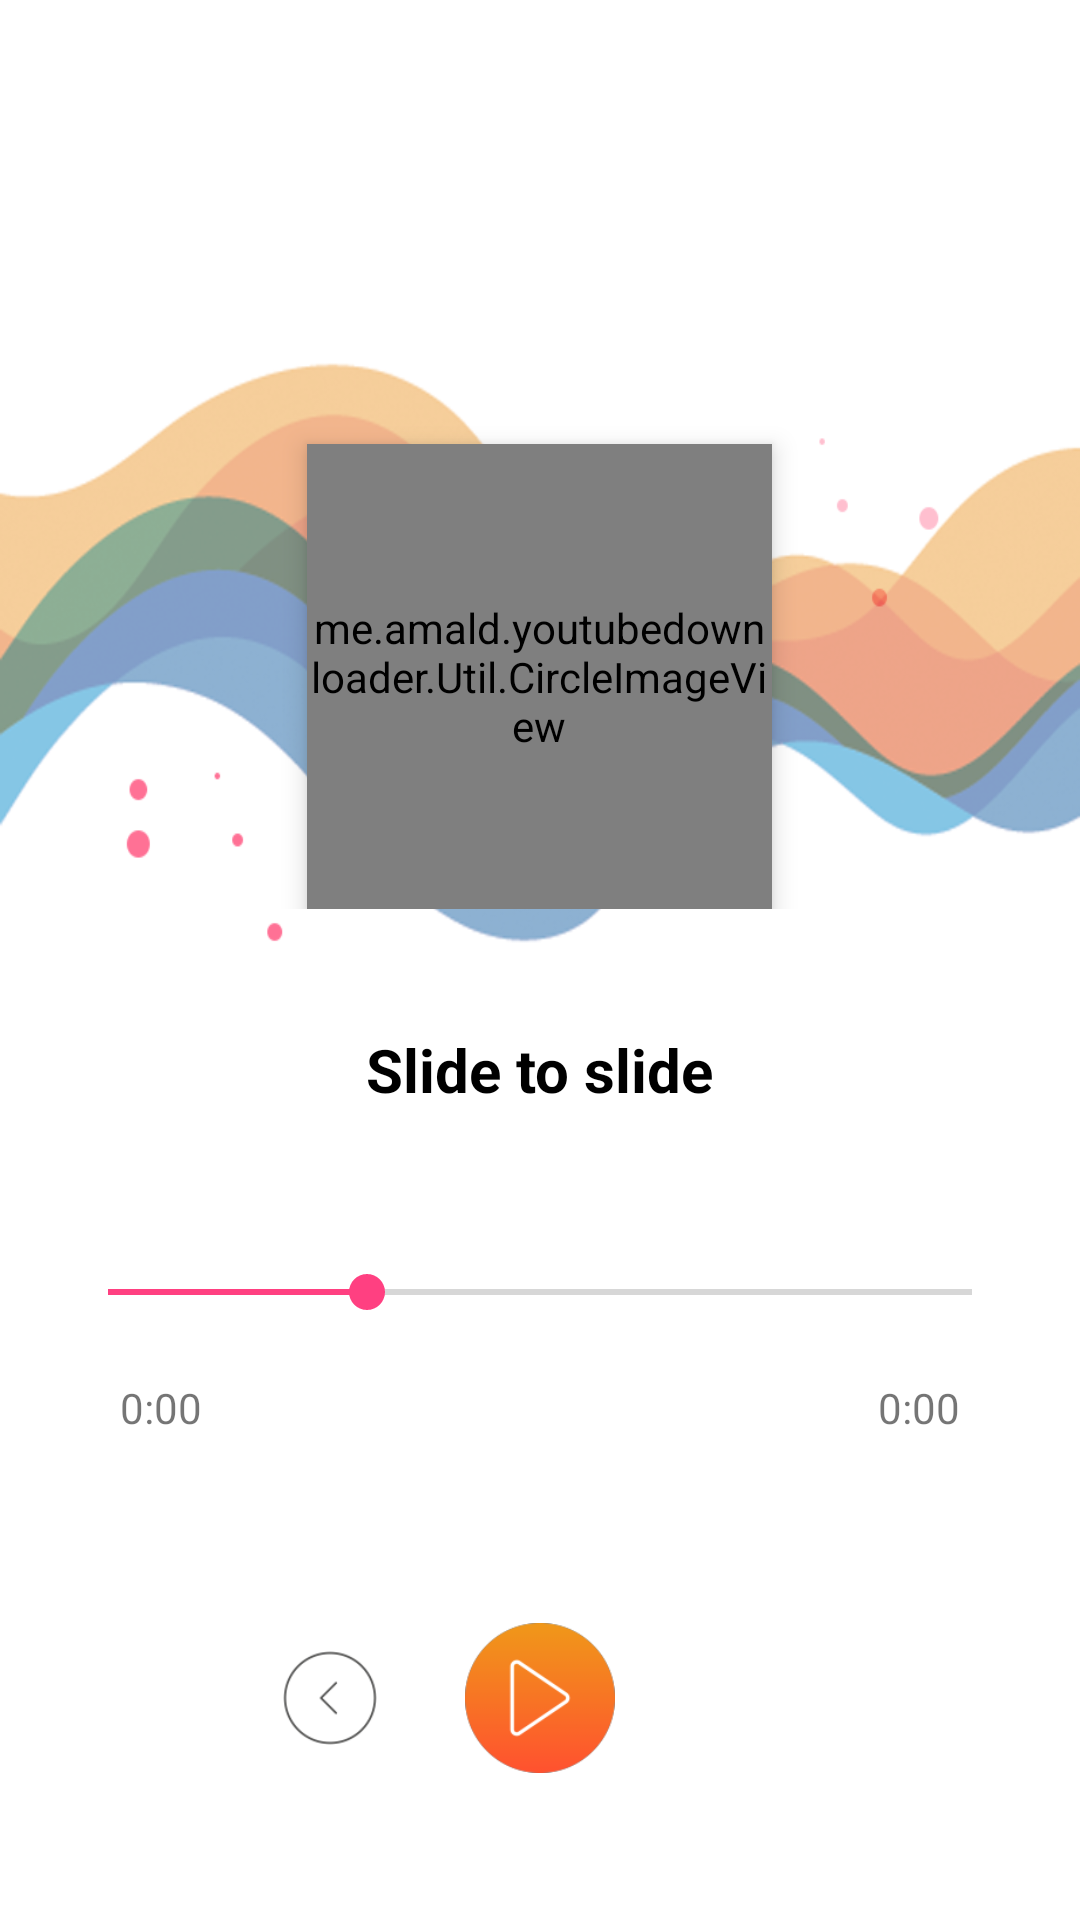

Icon click points for this 1080x1920 phone screenshot, format (x=x, y=y):
play: (x=540, y=1698)
previous: (x=330, y=1698)
